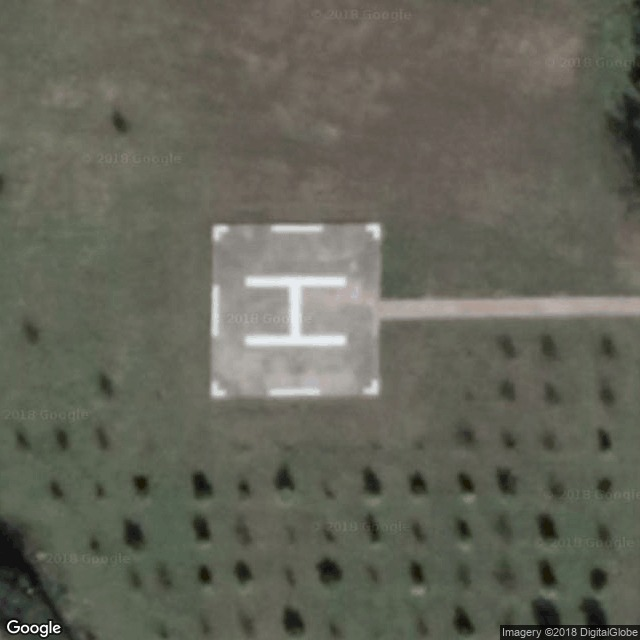heliport: (233, 263, 358, 351)
